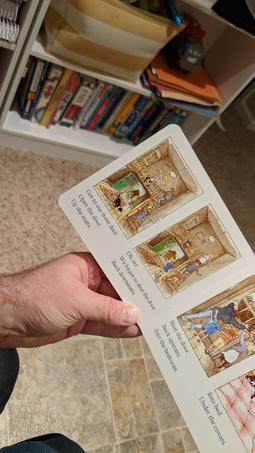text block: (103, 244, 157, 313), (66, 184, 126, 241), (147, 313, 193, 373), (193, 389, 232, 452)
